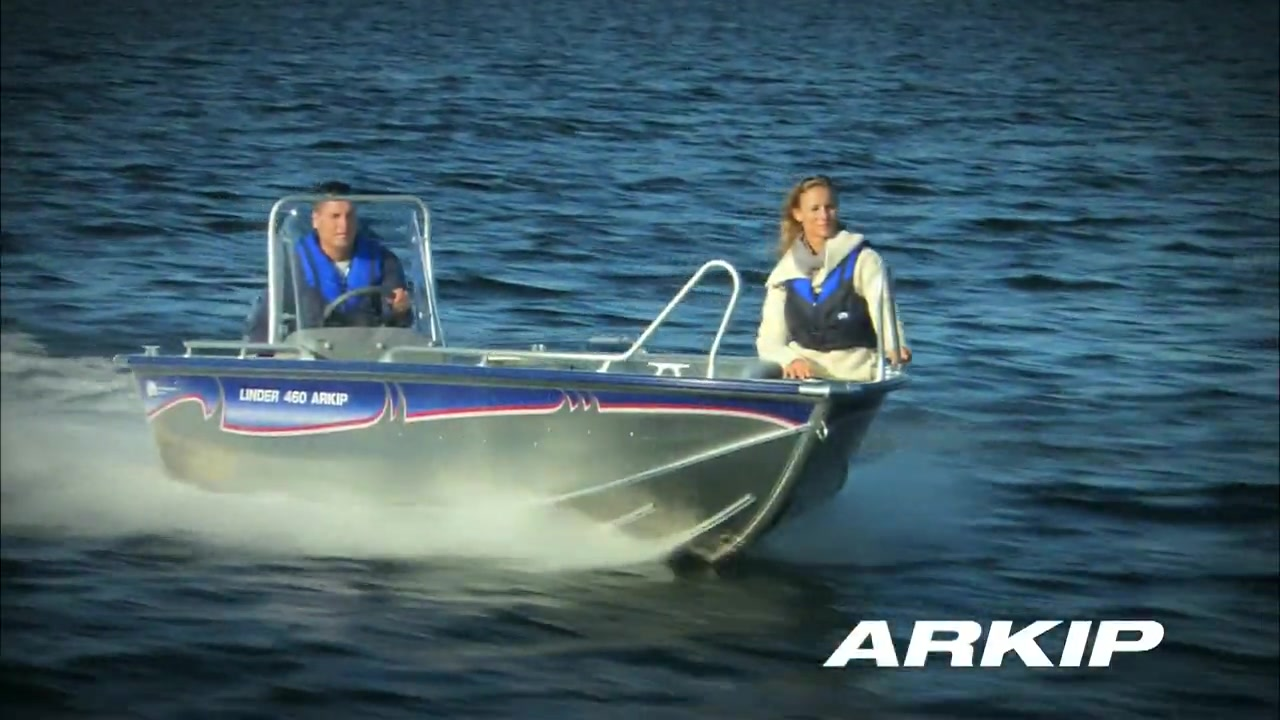boat: (106, 188, 901, 577)
